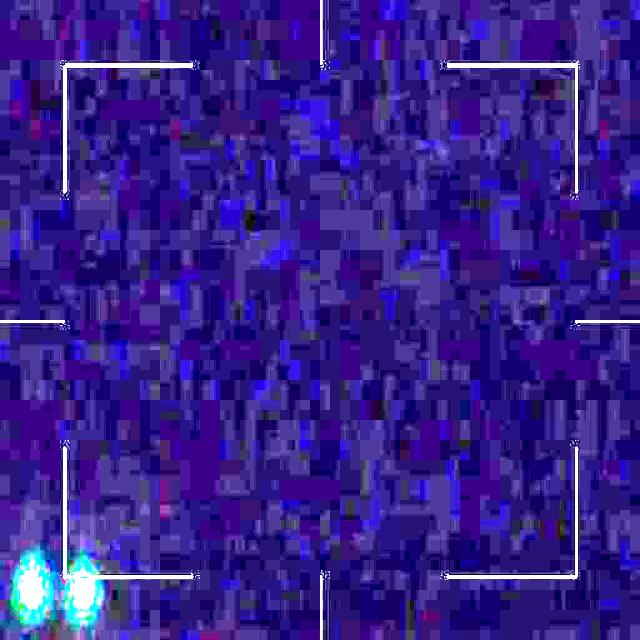bird: (20, 566, 98, 611)
